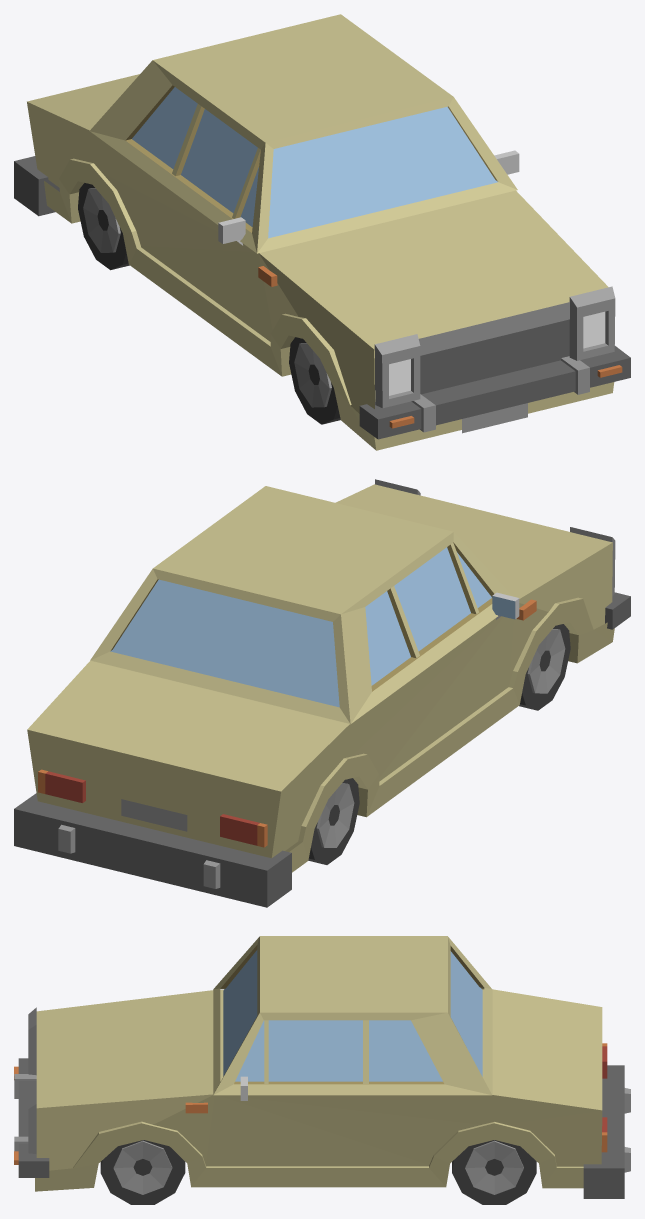
Rendered from transport_old_009.fbx.
3 views of the same model, one above another, from view 1: azimuth 30°, elevation 25°; view 2: azimuth 150°, elevation 25°; view 3: azimuth 270°, elevation 25° (orthographic). The views are drawn at different scales.
Parts seen in each view (by area): view 1: transport_old_009; view 2: transport_old_009; view 3: transport_old_009.
Boxes of the visible parts, left/top/right/bottom form: transport_old_009: left=14, top=14, right=630, bottom=450; transport_old_009: left=14, top=479, right=630, bottom=907; transport_old_009: left=14, top=936, right=630, bottom=1204.
Bounding box in the file's own units: 152 × 108 × 329.
